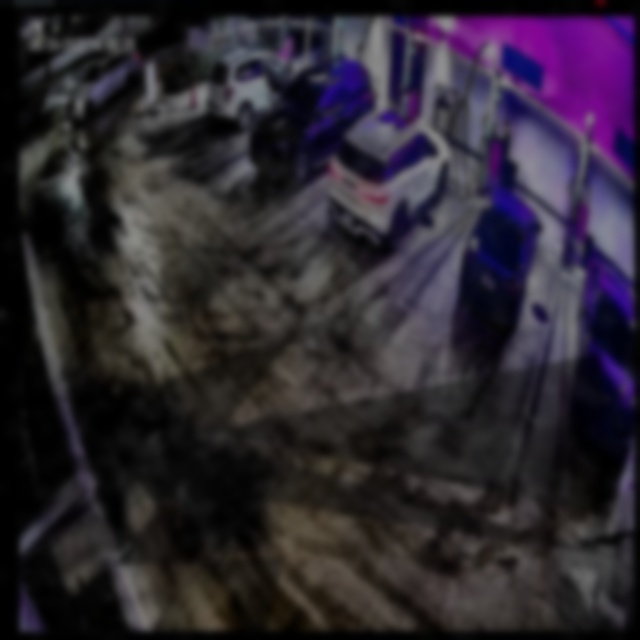Car: (330, 111, 451, 253), (250, 54, 377, 187), (460, 184, 540, 328)
